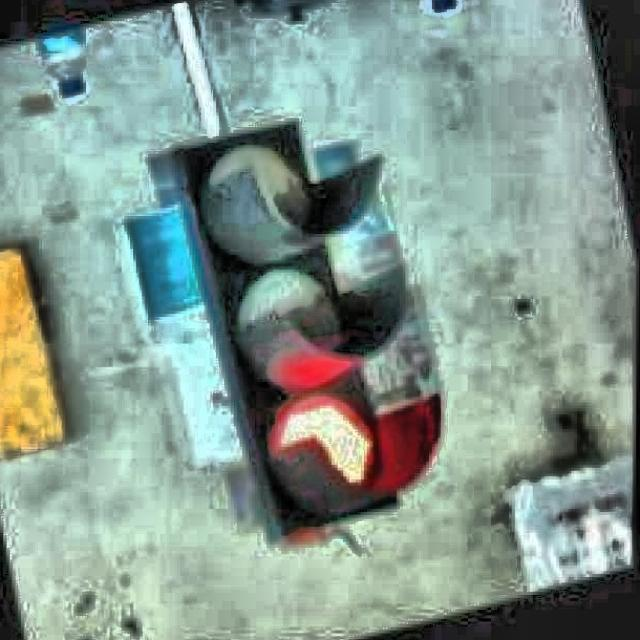red: (171, 116, 417, 517)
